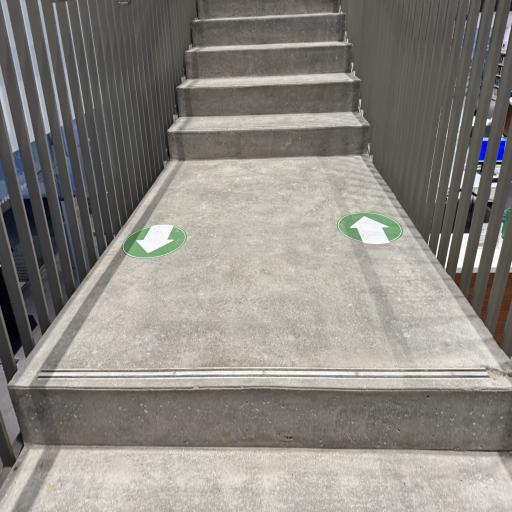Stairs: (0, 0, 512, 511), (0, 445, 512, 512), (168, 0, 369, 160), (170, 73, 368, 156), (186, 41, 356, 111), (168, 112, 368, 160), (192, 12, 345, 47)
